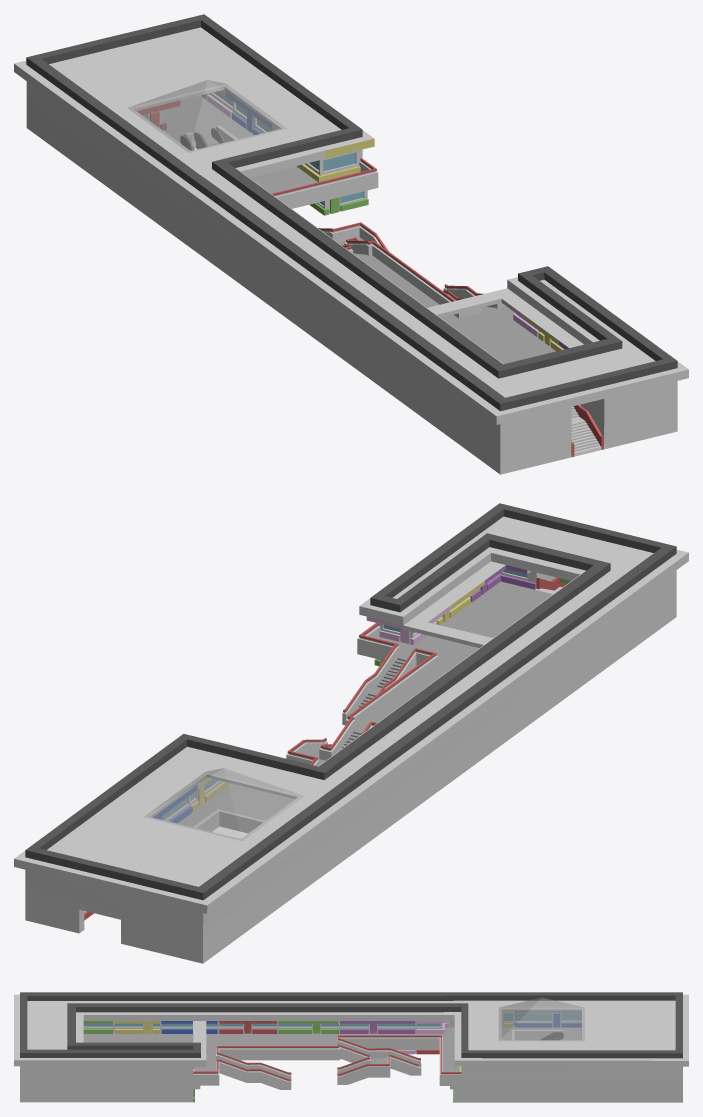
The model's file is OVERGATE MODLED TEXTURED.fbx.
The picture shows the model from 3 angles, top to bottom: view 1: azimuth 30°, elevation 25°; view 2: azimuth 150°, elevation 25°; view 3: azimuth 270°, elevation 25°; orthographic projection. The views are drawn at different scales.
Visible parts, largest first — view 1: overgate24, polySurface1; view 2: overgate24, polySurface1; view 3: overgate24, polySurface1.
Part boxes in pixels (x1,y1,x2,y2): overgate24: (14, 14, 688, 474); polySurface1: (128, 80, 287, 152); overgate24: (14, 503, 688, 963); polySurface1: (144, 768, 303, 840); overgate24: (14, 992, 688, 1102); polySurface1: (498, 997, 584, 1041).
Bounding box in the file's own units: 27.08 × 13.72 × 117.
